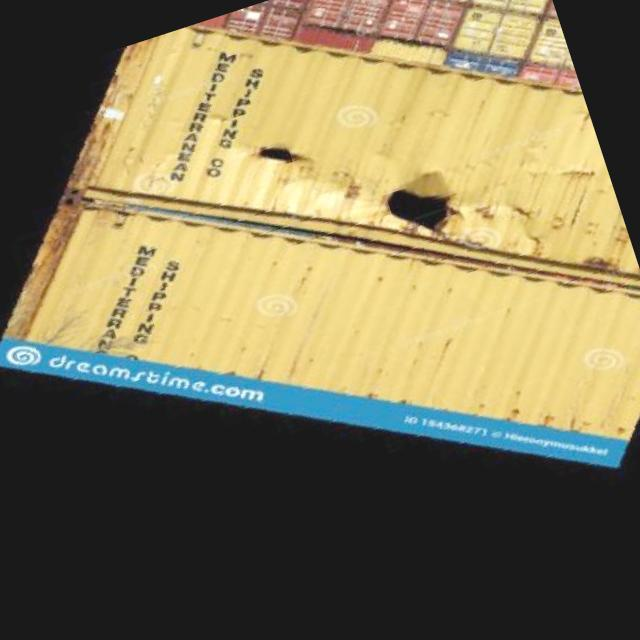hole: (234, 94, 352, 215), (369, 153, 486, 259)
